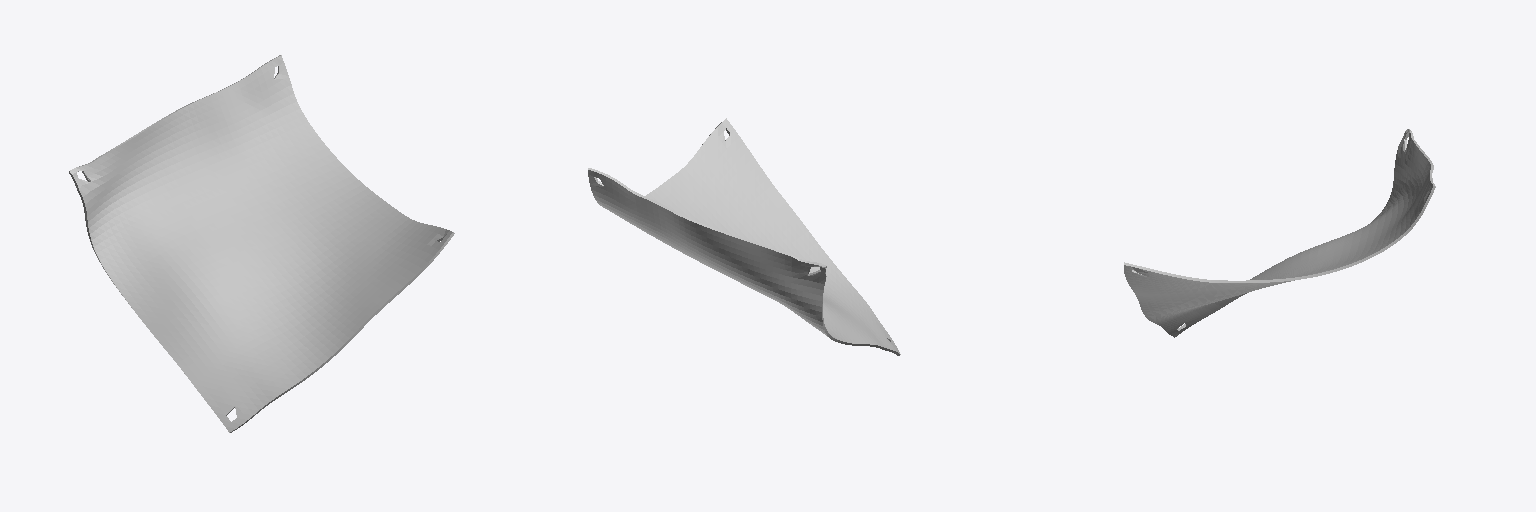
File: Cloth.obj
3 renders of one model, left to right at view 1: azimuth 30°, elevation 25°; view 2: azimuth 150°, elevation 25°; view 3: azimuth 270°, elevation 25°, orthographic.
Parts seen in each view (by area): view 1: pPlane14; view 2: pPlane14; view 3: pPlane14.
Boxes of the visible parts, x1=… form: pPlane14: x1=69, y1=55, x2=454, y2=432; pPlane14: x1=588, y1=118, x2=900, y2=355; pPlane14: x1=1124, y1=129, x2=1435, y2=337.
Size of the model in its own units: 6.11 by 5.72 by 6.75.